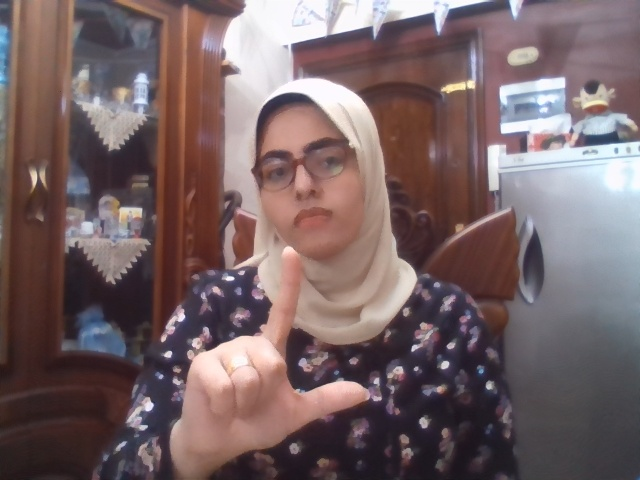L: (182, 247, 369, 460)
